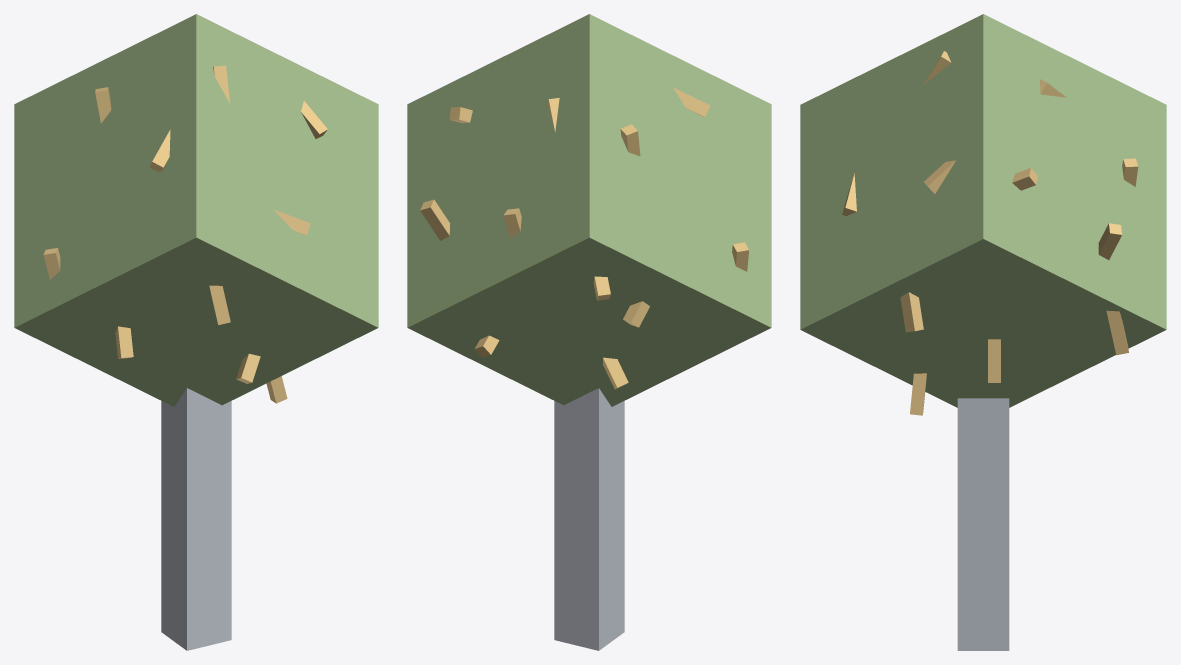
File: Nirch Tree.fbx
3 renders of one model, left to right at view 1: azimuth 30°, elevation 25°; view 2: azimuth 150°, elevation 25°; view 3: azimuth 270°, elevation 25°, orthographic.
Parts seen in each view (by area): view 1: Nirch Tree Leaves, Nirch Tree Trunk, Nirch Tree Fruits; view 2: Nirch Tree Leaves, Nirch Tree Trunk, Nirch Tree Fruits; view 3: Nirch Tree Leaves, Nirch Tree Trunk, Nirch Tree Fruits.
Boxes of the visible parts, left/top/right/bottom form: Nirch Tree Leaves: left=14, top=14, right=378, bottom=406; Nirch Tree Trunk: left=161, top=388, right=231, bottom=650; Nirch Tree Fruits: left=43, top=65, right=327, bottom=403; Nirch Tree Leaves: left=407, top=14, right=771, bottom=406; Nirch Tree Trunk: left=554, top=388, right=624, bottom=650; Nirch Tree Fruits: left=420, top=87, right=748, bottom=389; Nirch Tree Leaves: left=800, top=14, right=1166, bottom=407; Nirch Tree Trunk: left=957, top=398, right=1009, bottom=650; Nirch Tree Fruits: left=842, top=51, right=1138, bottom=415.
Bounding box in the file's own units: 81.65 × 133 × 70.71.
